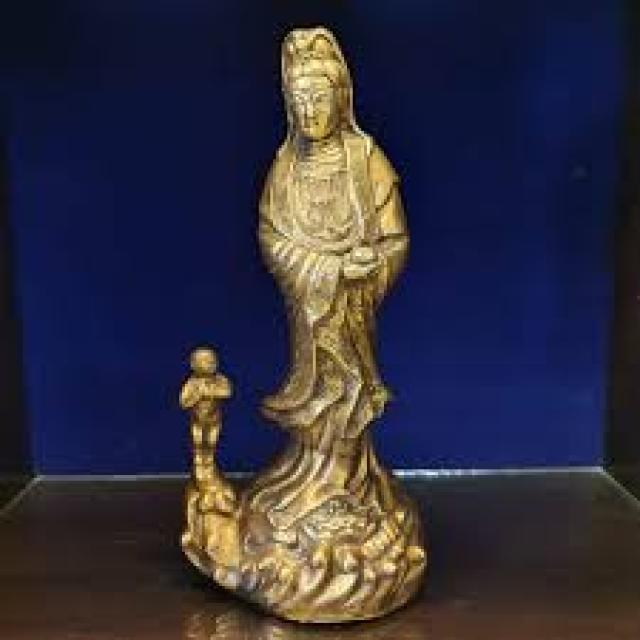Guan Yin: (253, 25, 410, 433)
